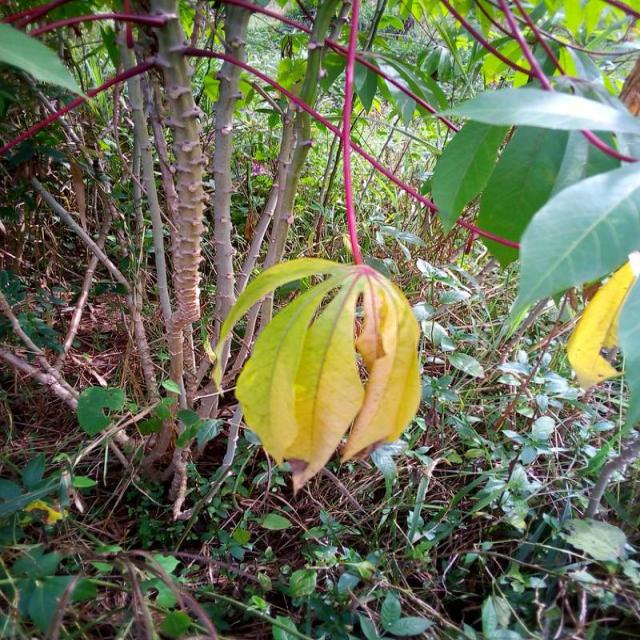cassava leaf: (223, 256, 422, 497), (504, 159, 640, 340)
